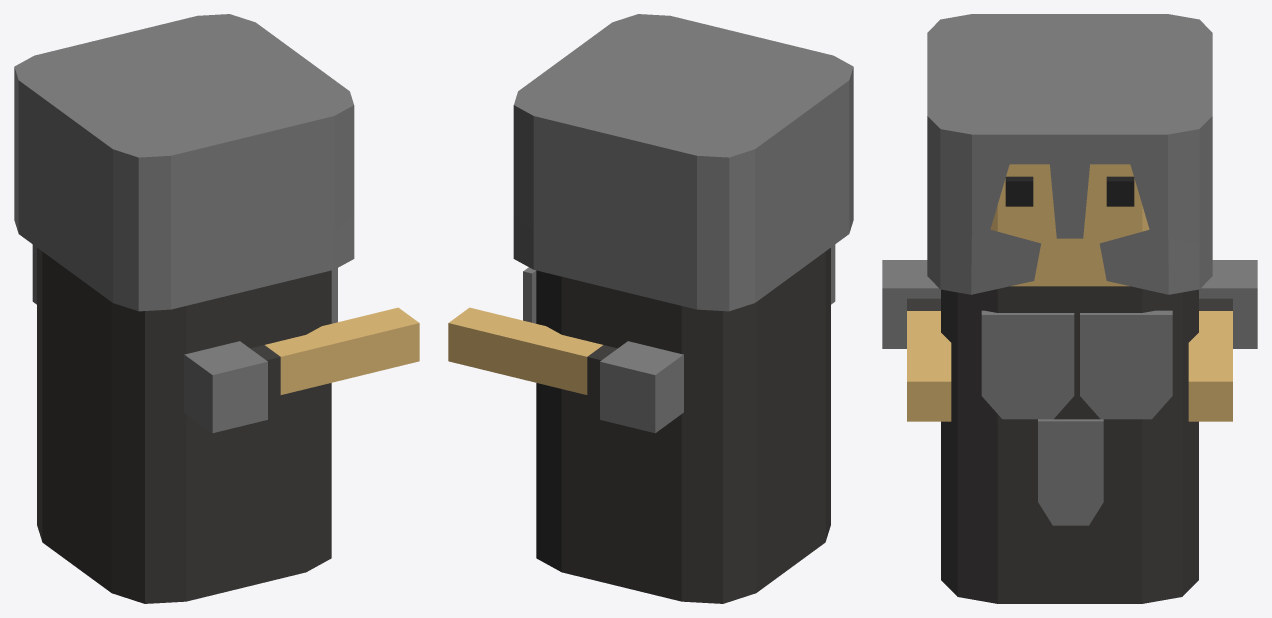
Rendered from ArmourDude.fbx.
3 views of the same model, side by side, from view 1: azimuth 30°, elevation 25°; view 2: azimuth 150°, elevation 25°; view 3: azimuth 270°, elevation 25° (orthographic). The views are drawn at different scales.
Visible parts, largest first — view 1: Body, Cube.005, Cube.003; view 2: Body, Cube.005, Cube.004, Cube.001; view 3: Body, Cube.005, Cube, Cube.001, Cube.002, Cube.003, Cube.004.
Part boxes in pixels (box(x1,y1,x2,y2)): Body: box(37, 248, 419, 603); Cube.005: box(14, 14, 354, 311); Cube.003: box(184, 341, 267, 433); Body: box(448, 248, 830, 603); Cube.005: box(513, 14, 853, 311); Cube.004: box(600, 341, 683, 433); Cube.001: box(523, 267, 536, 323); Body: box(907, 164, 1232, 603); Cube.005: box(927, 14, 1212, 294); Cube: box(981, 310, 1074, 419); Cube.001: box(1080, 310, 1172, 419); Cube.002: box(1038, 419, 1103, 525); Cube.003: box(882, 260, 940, 348); Cube.004: box(1199, 260, 1257, 348).
Size of the model in its own units: 215 by 340 by 244.
